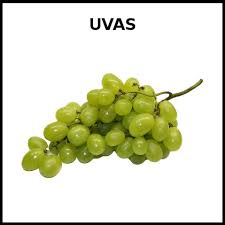Green grapes: (18, 71, 184, 181)
